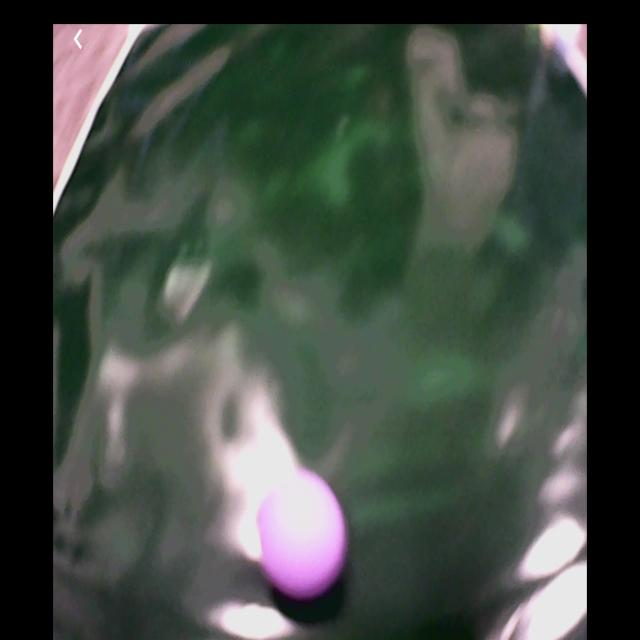ball: (259, 473, 350, 601)
